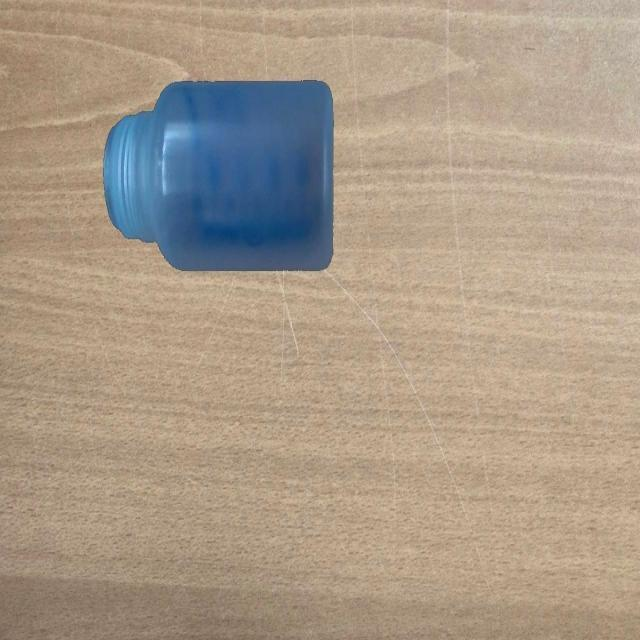bottle: (103, 77, 335, 274)
